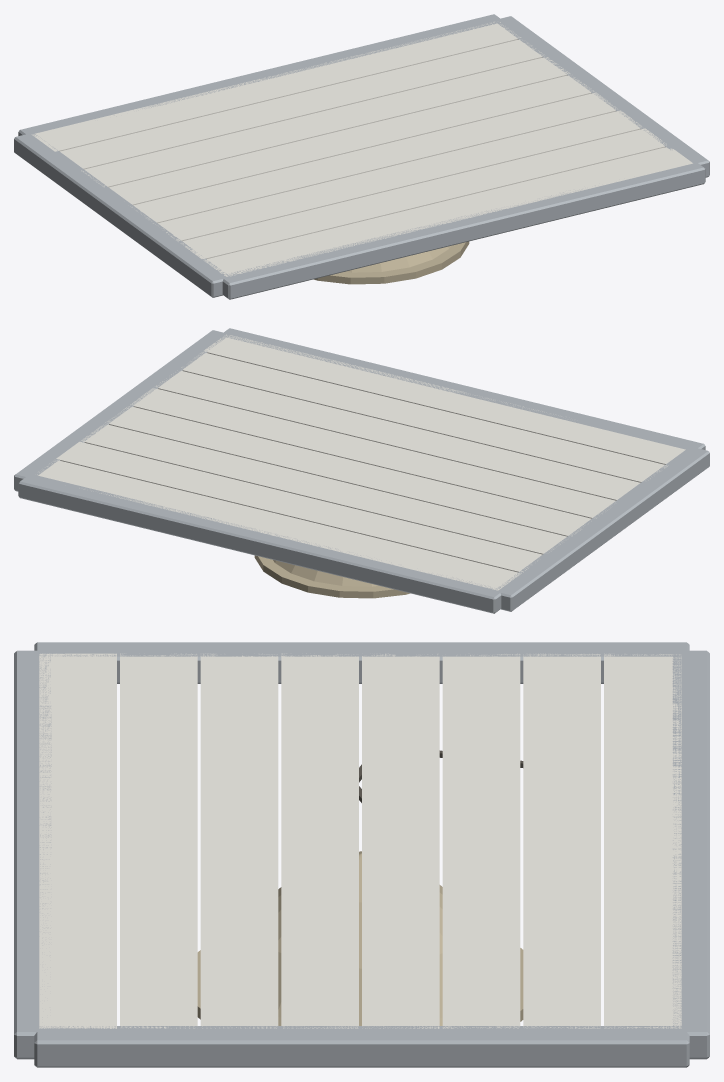
File: Forro.fbx
The picture shows the model from 3 angles, top to bottom: view 1: azimuth 30°, elevation 25°; view 2: azimuth 150°, elevation 25°; view 3: azimuth 270°, elevation 25°; orthographic projection. The views are drawn at different scales.
Visible parts, largest first — view 1: Forro, Barriga; view 2: Forro, Barriga; view 3: Forro, Barriga.
Part boxes in pixels (box(x1,y1,x2,y2)): Forro: box(14, 14, 709, 299); Barriga: box(313, 241, 469, 284); Forro: box(14, 328, 709, 613); Barriga: box(254, 555, 410, 598); Forro: box(14, 642, 709, 1067); Barriga: box(197, 851, 523, 1025).
Bounding box in the file's own units: 1.88 × 0.326 × 1.38.
1 material, 1 textured.
